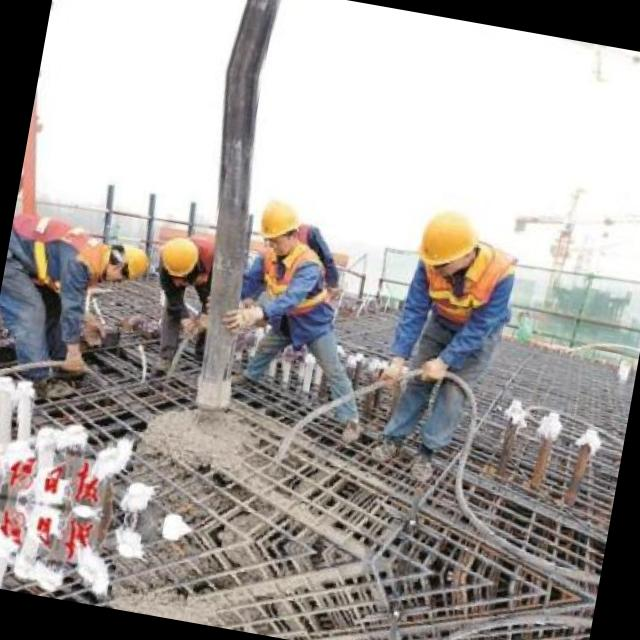helmet: (402, 190, 487, 294), (250, 186, 314, 262), (86, 234, 152, 292), (154, 228, 206, 284)
